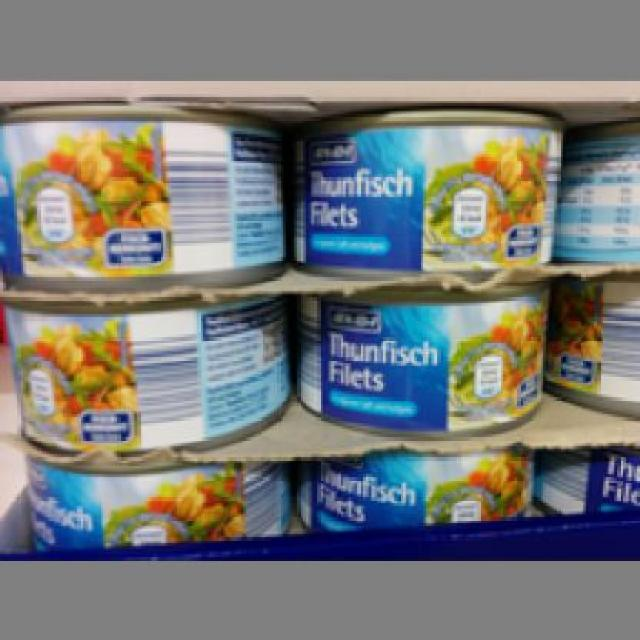Fish: (0, 107, 295, 286), (2, 303, 292, 452), (294, 112, 560, 268), (292, 286, 548, 432), (13, 446, 286, 546), (292, 431, 532, 526)
